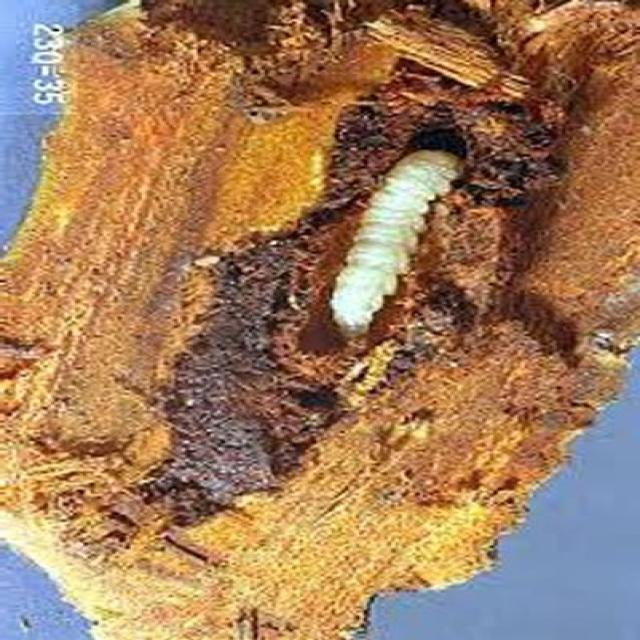peach borer: (312, 146, 467, 342)
